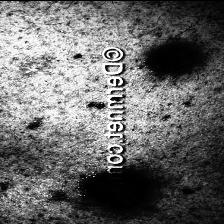Potentially Malignant Skin Tumors: (77, 170, 153, 210), (147, 43, 200, 74)
